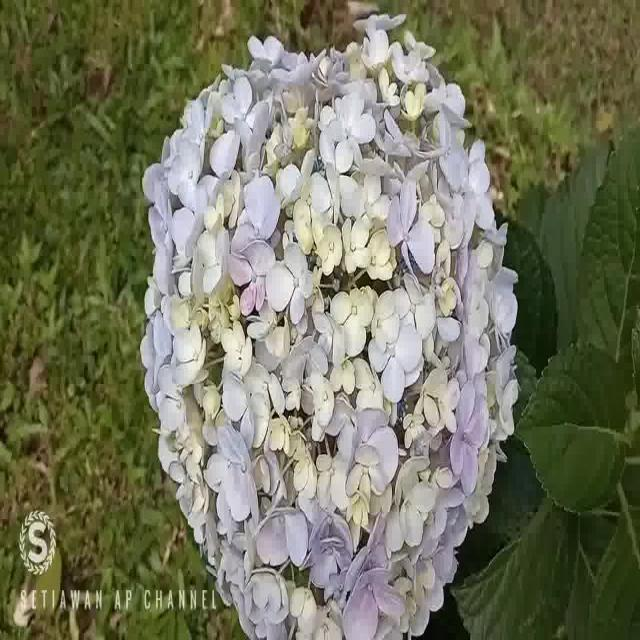Flower: (137, 25, 523, 640)
